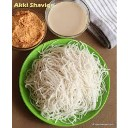idiyappam: (34, 48, 98, 115)
